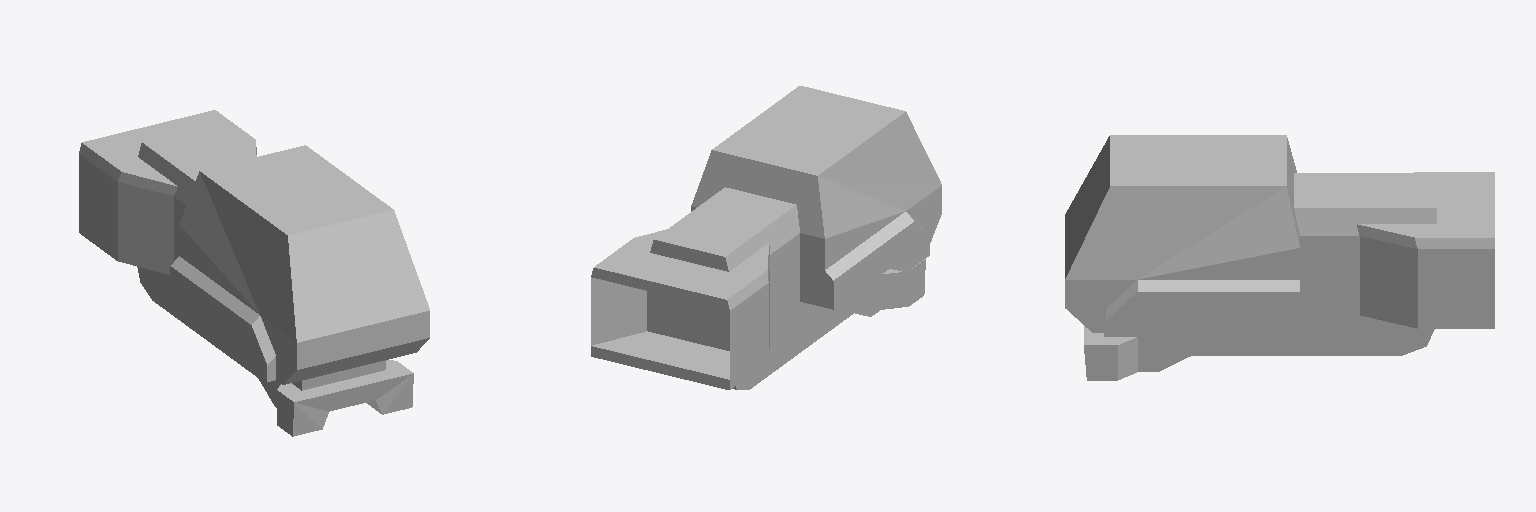
Rendered from TransportOffset.obj.
3 views of the same model, side by side, from view 1: azimuth 30°, elevation 25°; view 2: azimuth 150°, elevation 25°; view 3: azimuth 270°, elevation 25° (orthographic).
Parts seen in each view (by area): view 1: Cube; view 2: Cube; view 3: Cube.
Part boxes in pixels (bbox=[...]): Cube: bbox=[79, 110, 429, 436]; Cube: bbox=[591, 86, 941, 389]; Cube: bbox=[1065, 135, 1494, 380].
Size of the model in its own units: 2.85 by 3.45 by 7.04.